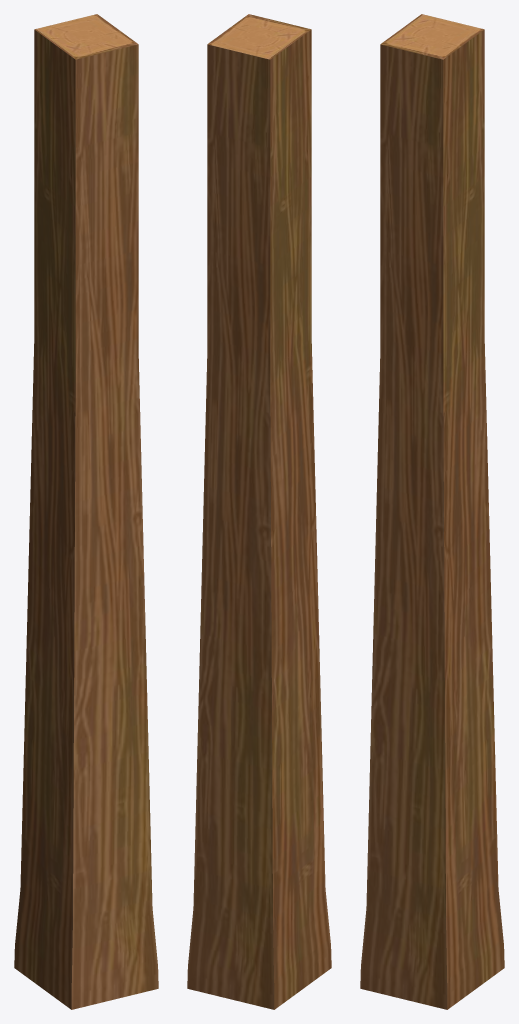
Rendered from wall-qm-cornerexteriorwidewood.glb.
3 renders of one model, left to right at view 1: azimuth 30°, elevation 25°; view 2: azimuth 150°, elevation 25°; view 3: azimuth 330°, elevation 25°, orthographic.
Visible parts, largest first — view 1: Cube_028; view 2: Cube_028; view 3: Cube_028.
Boxes of the visible parts, x1,y1,x2,y2 form: Cube_028: [14, 14, 158, 1009]; Cube_028: [187, 14, 331, 1009]; Cube_028: [360, 14, 504, 1009].
Bounding box in the file's own units: 0.2905 × 3 × 0.3312.
1 material, 1 textured.
